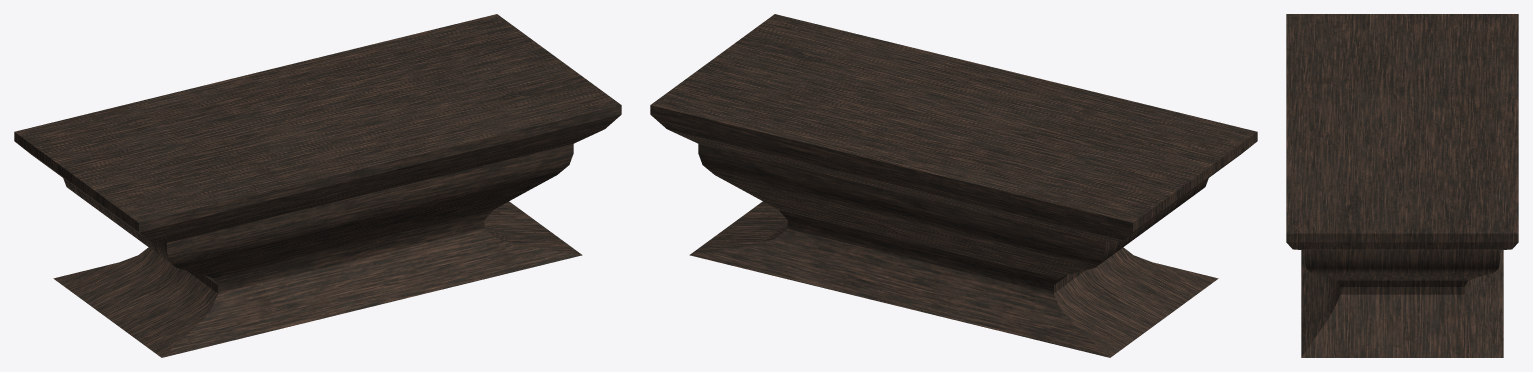
File: Coffee Table.fbx
The picture shows the model from 3 angles, left to right: view 1: azimuth 30°, elevation 25°; view 2: azimuth 150°, elevation 25°; view 3: azimuth 270°, elevation 25°; orthographic projection. The views are drawn at different scales.
Parts seen in each view (by area): view 1: Coffee_Table1; view 2: Coffee_Table1; view 3: Coffee_Table1.
Part boxes in pixels (x1,y1,x2,y2): Coffee_Table1: [14, 14, 621, 357]; Coffee_Table1: [650, 14, 1257, 357]; Coffee_Table1: [1286, 14, 1518, 357].
Bounding box in the file's own units: 195 × 57.28 × 87.14.
